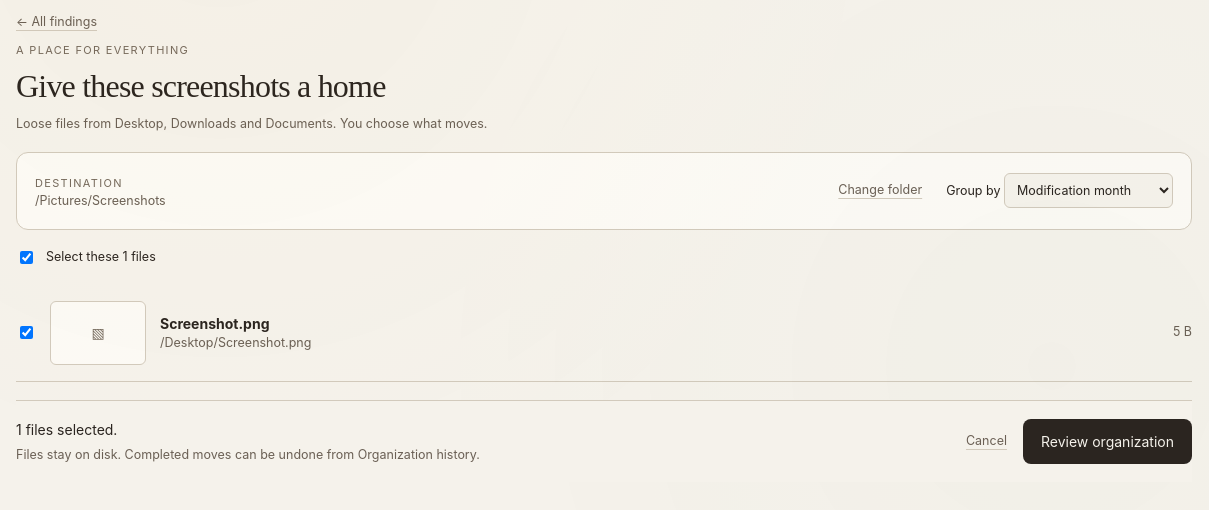
it: lets a partial result return to selection without leaving the screen
(page scrolled)
What coordinates should you click on to do the following:
click the button "Review organization"
I would click on:
 (1108, 441)
Its box is 1023,419 -> 1192,464.
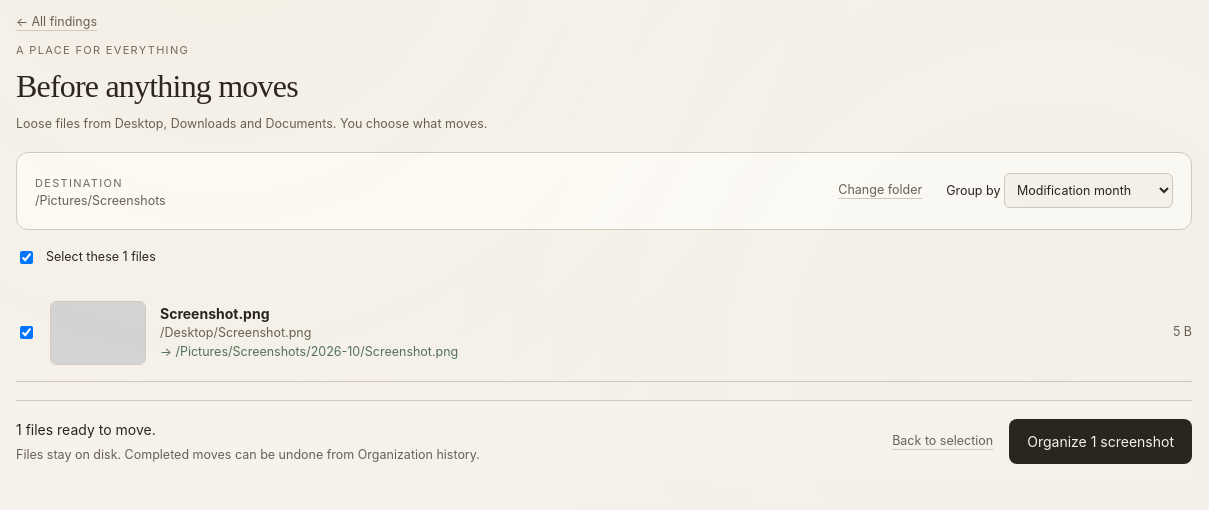
What coordinates should you click on to do the following:
click the button "Organize 1 screenshot"
I would click on:
 (1101, 441)
Its box is 1009,419 -> 1192,464.
(page scrolled)
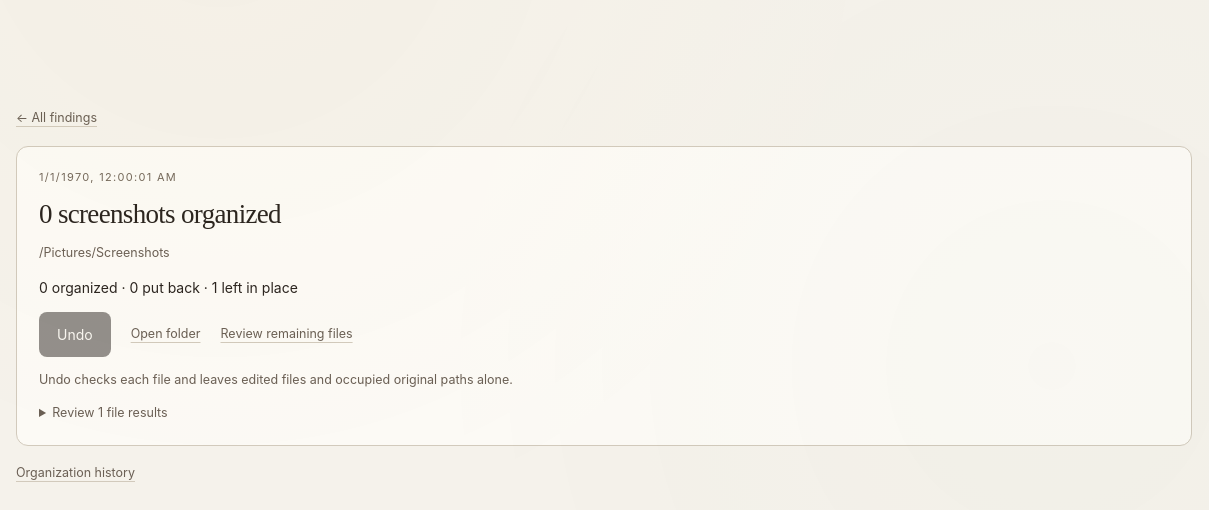
Now the button "Review remaining files" is shown
What coordinates should you click on to do the following:
click the button "Review remaining files"
I would click on:
 (287, 335)
Its box is 220,325 -> 353,344.
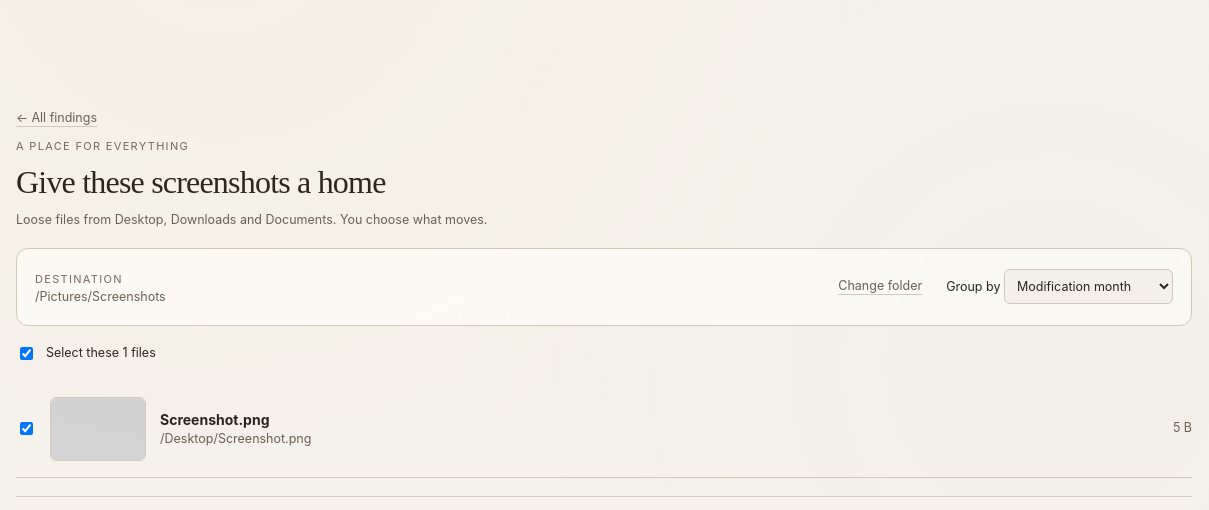
Now the text "Give these screenshots a home" is shown, box 16,164 -> 386,200
